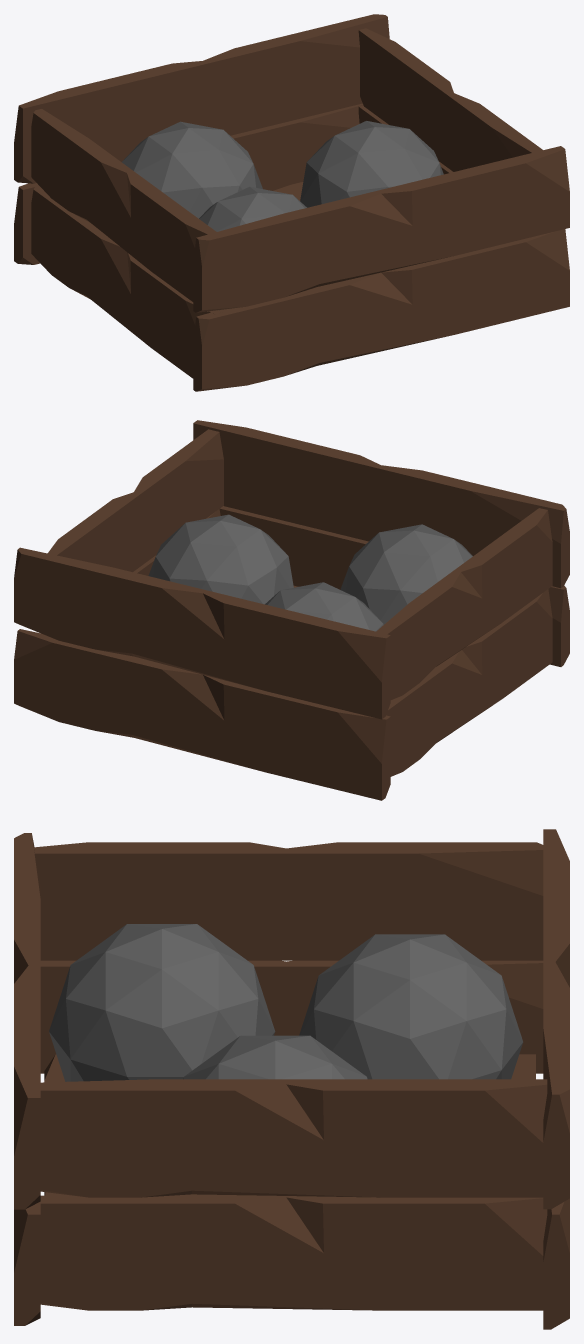
Rendered from LowBulletBox.fbx.
The picture shows the model from 3 angles, top to bottom: view 1: azimuth 30°, elevation 25°; view 2: azimuth 150°, elevation 25°; view 3: azimuth 270°, elevation 25°; orthographic projection. The views are drawn at different scales.
Visible parts, largest first — view 1: WoodenBox, Bullet; view 2: WoodenBox, Bullet; view 3: WoodenBox, Bullet.
Part boxes in pixels (x1,y1,x2,y2): WoodenBox: [14, 14, 569, 391]; Bullet: [122, 121, 443, 310]; WoodenBox: [14, 420, 569, 800]; Bullet: [148, 514, 472, 631]; WoodenBox: [14, 829, 569, 1329]; Bullet: [49, 924, 523, 1081].
Bounding box in the file's own units: 154 × 63.45 × 136.
